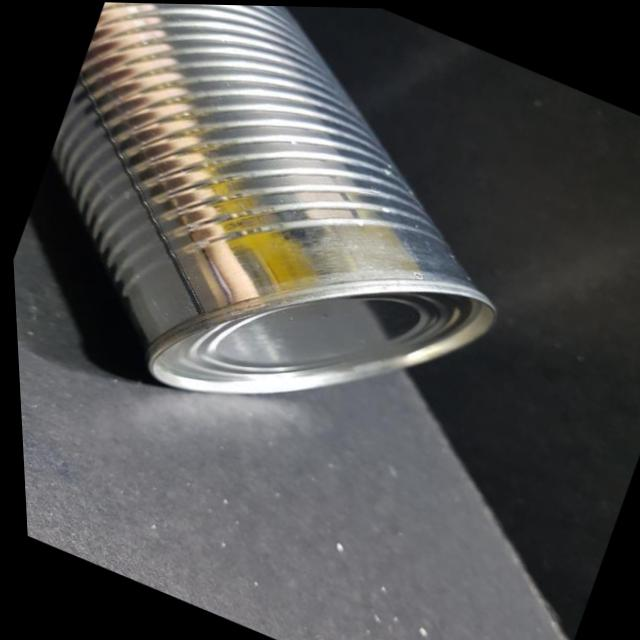metal: (0, 0, 538, 428)
